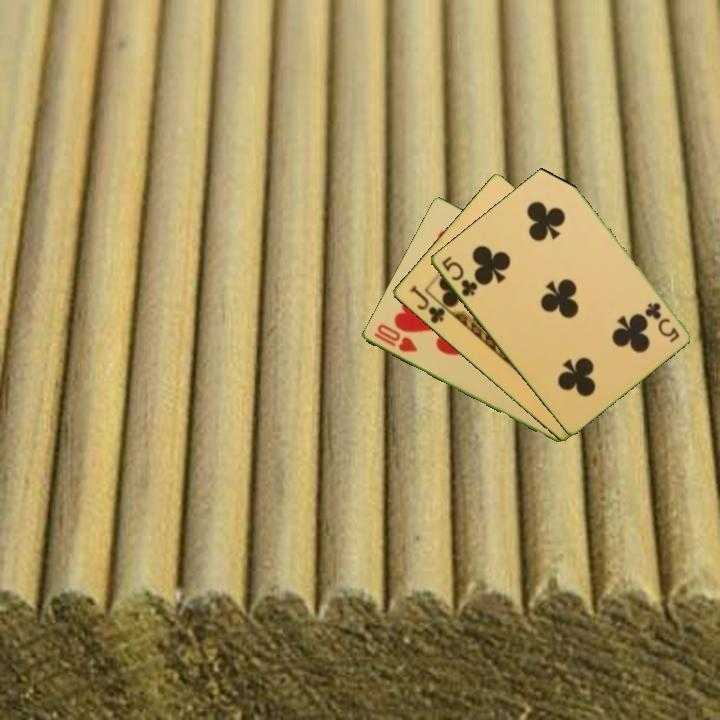10h: (370, 320, 420, 355)
5c: (438, 252, 480, 300), (642, 299, 682, 345)
Jc: (406, 282, 448, 327)
